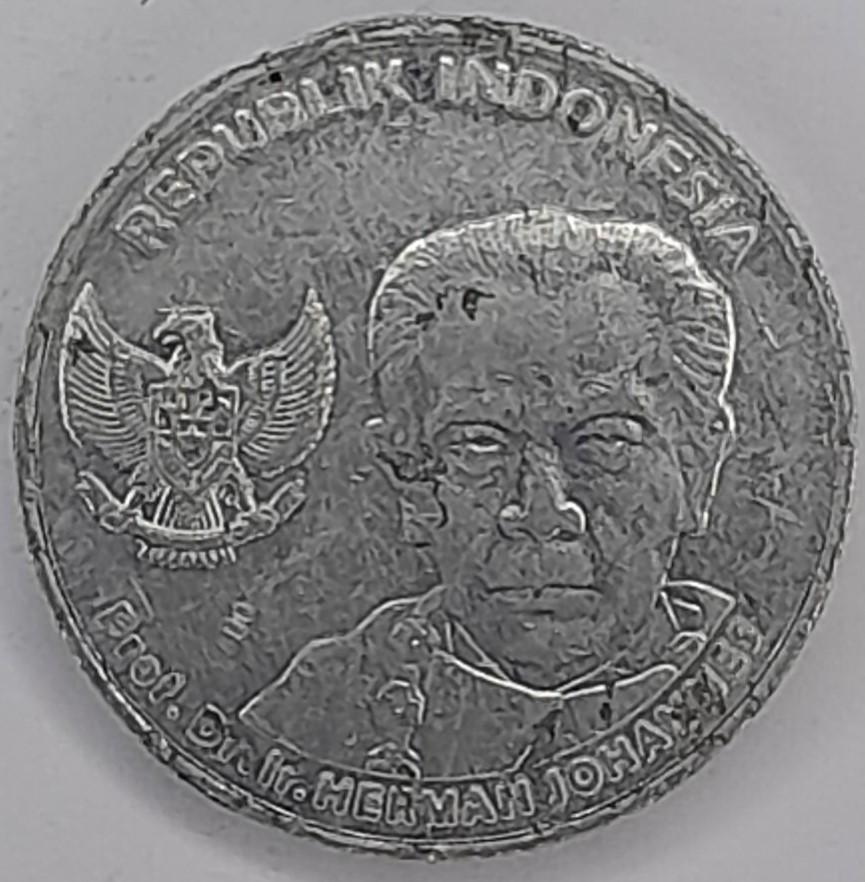coin_100_e2016: (6, 5, 863, 864)
